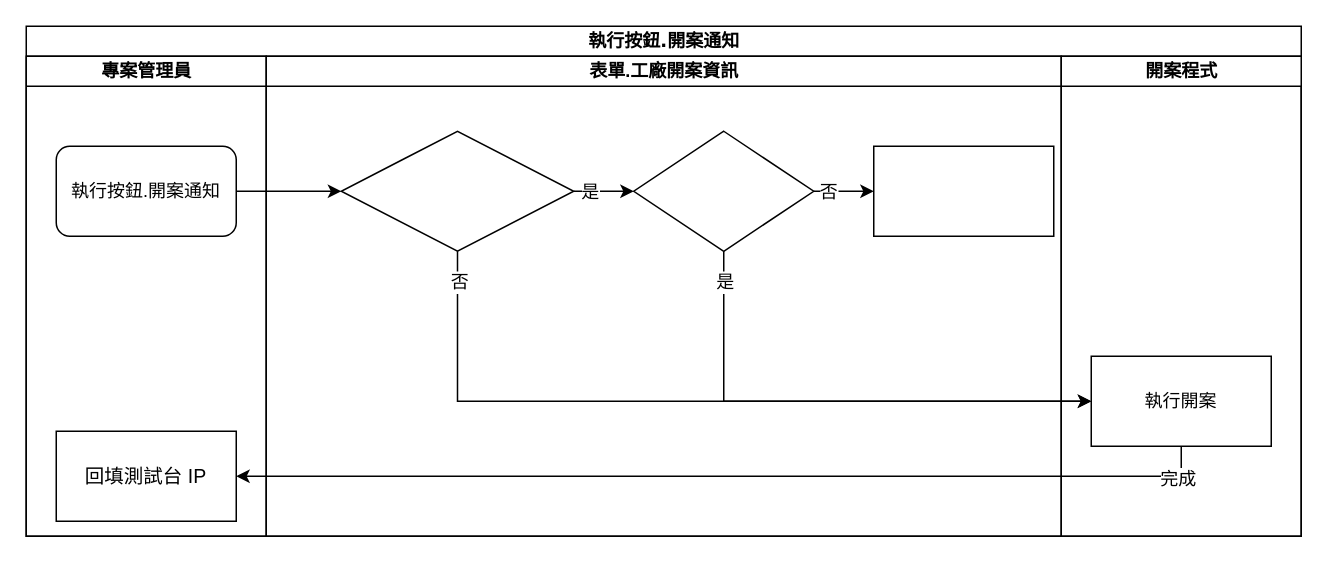
Image size: 1328x563. Some labels were removed from this diagram. Each missing label, with the centre of its shape:
"是否已通知開案" goes at pixel 457 190.
"詢問 是否再次發送通知" goes at pixel 723 190.
"關閉訊息盒" goes at pixel 963 190.
